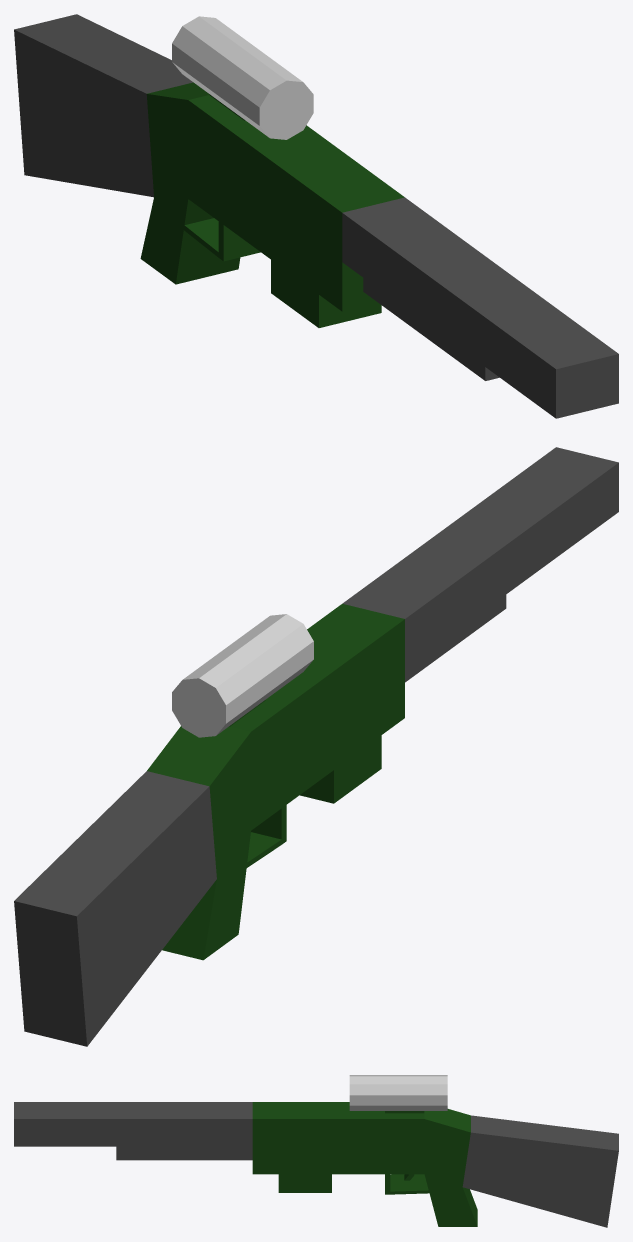
File: Sniper.fbx
3 views of the same model, one above another, from view 1: azimuth 30°, elevation 25°; view 2: azimuth 150°, elevation 25°; view 3: azimuth 270°, elevation 25° (orthographic). The views are drawn at different scales.
Parts seen in each view (by area): view 1: Cube; view 2: Cube; view 3: Cube.
Part boxes in pixels (x1,y1,x2,y2): Cube: [14, 14, 618, 418]; Cube: [14, 447, 618, 1046]; Cube: [14, 1075, 618, 1227].
Bounding box in the file's own units: 133 × 517 × 1985.
